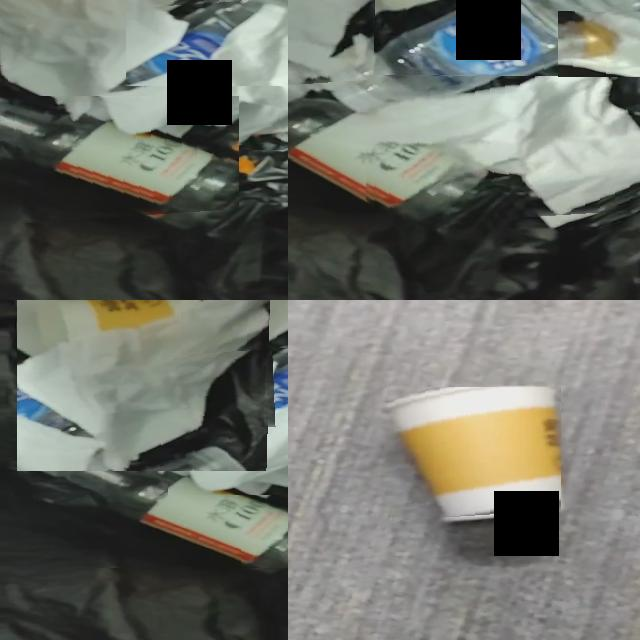bottle: (341, 0, 640, 111), (33, 441, 288, 568), (0, 99, 239, 216), (288, 75, 478, 218), (126, 0, 288, 86), (208, 350, 288, 431)
dixie_cup: (388, 387, 561, 518), (88, 300, 247, 342)
paper: (17, 300, 270, 471), (0, 0, 288, 150), (362, 76, 640, 218), (168, 408, 288, 495), (288, 0, 374, 80), (558, 13, 640, 77), (234, 300, 288, 351)
